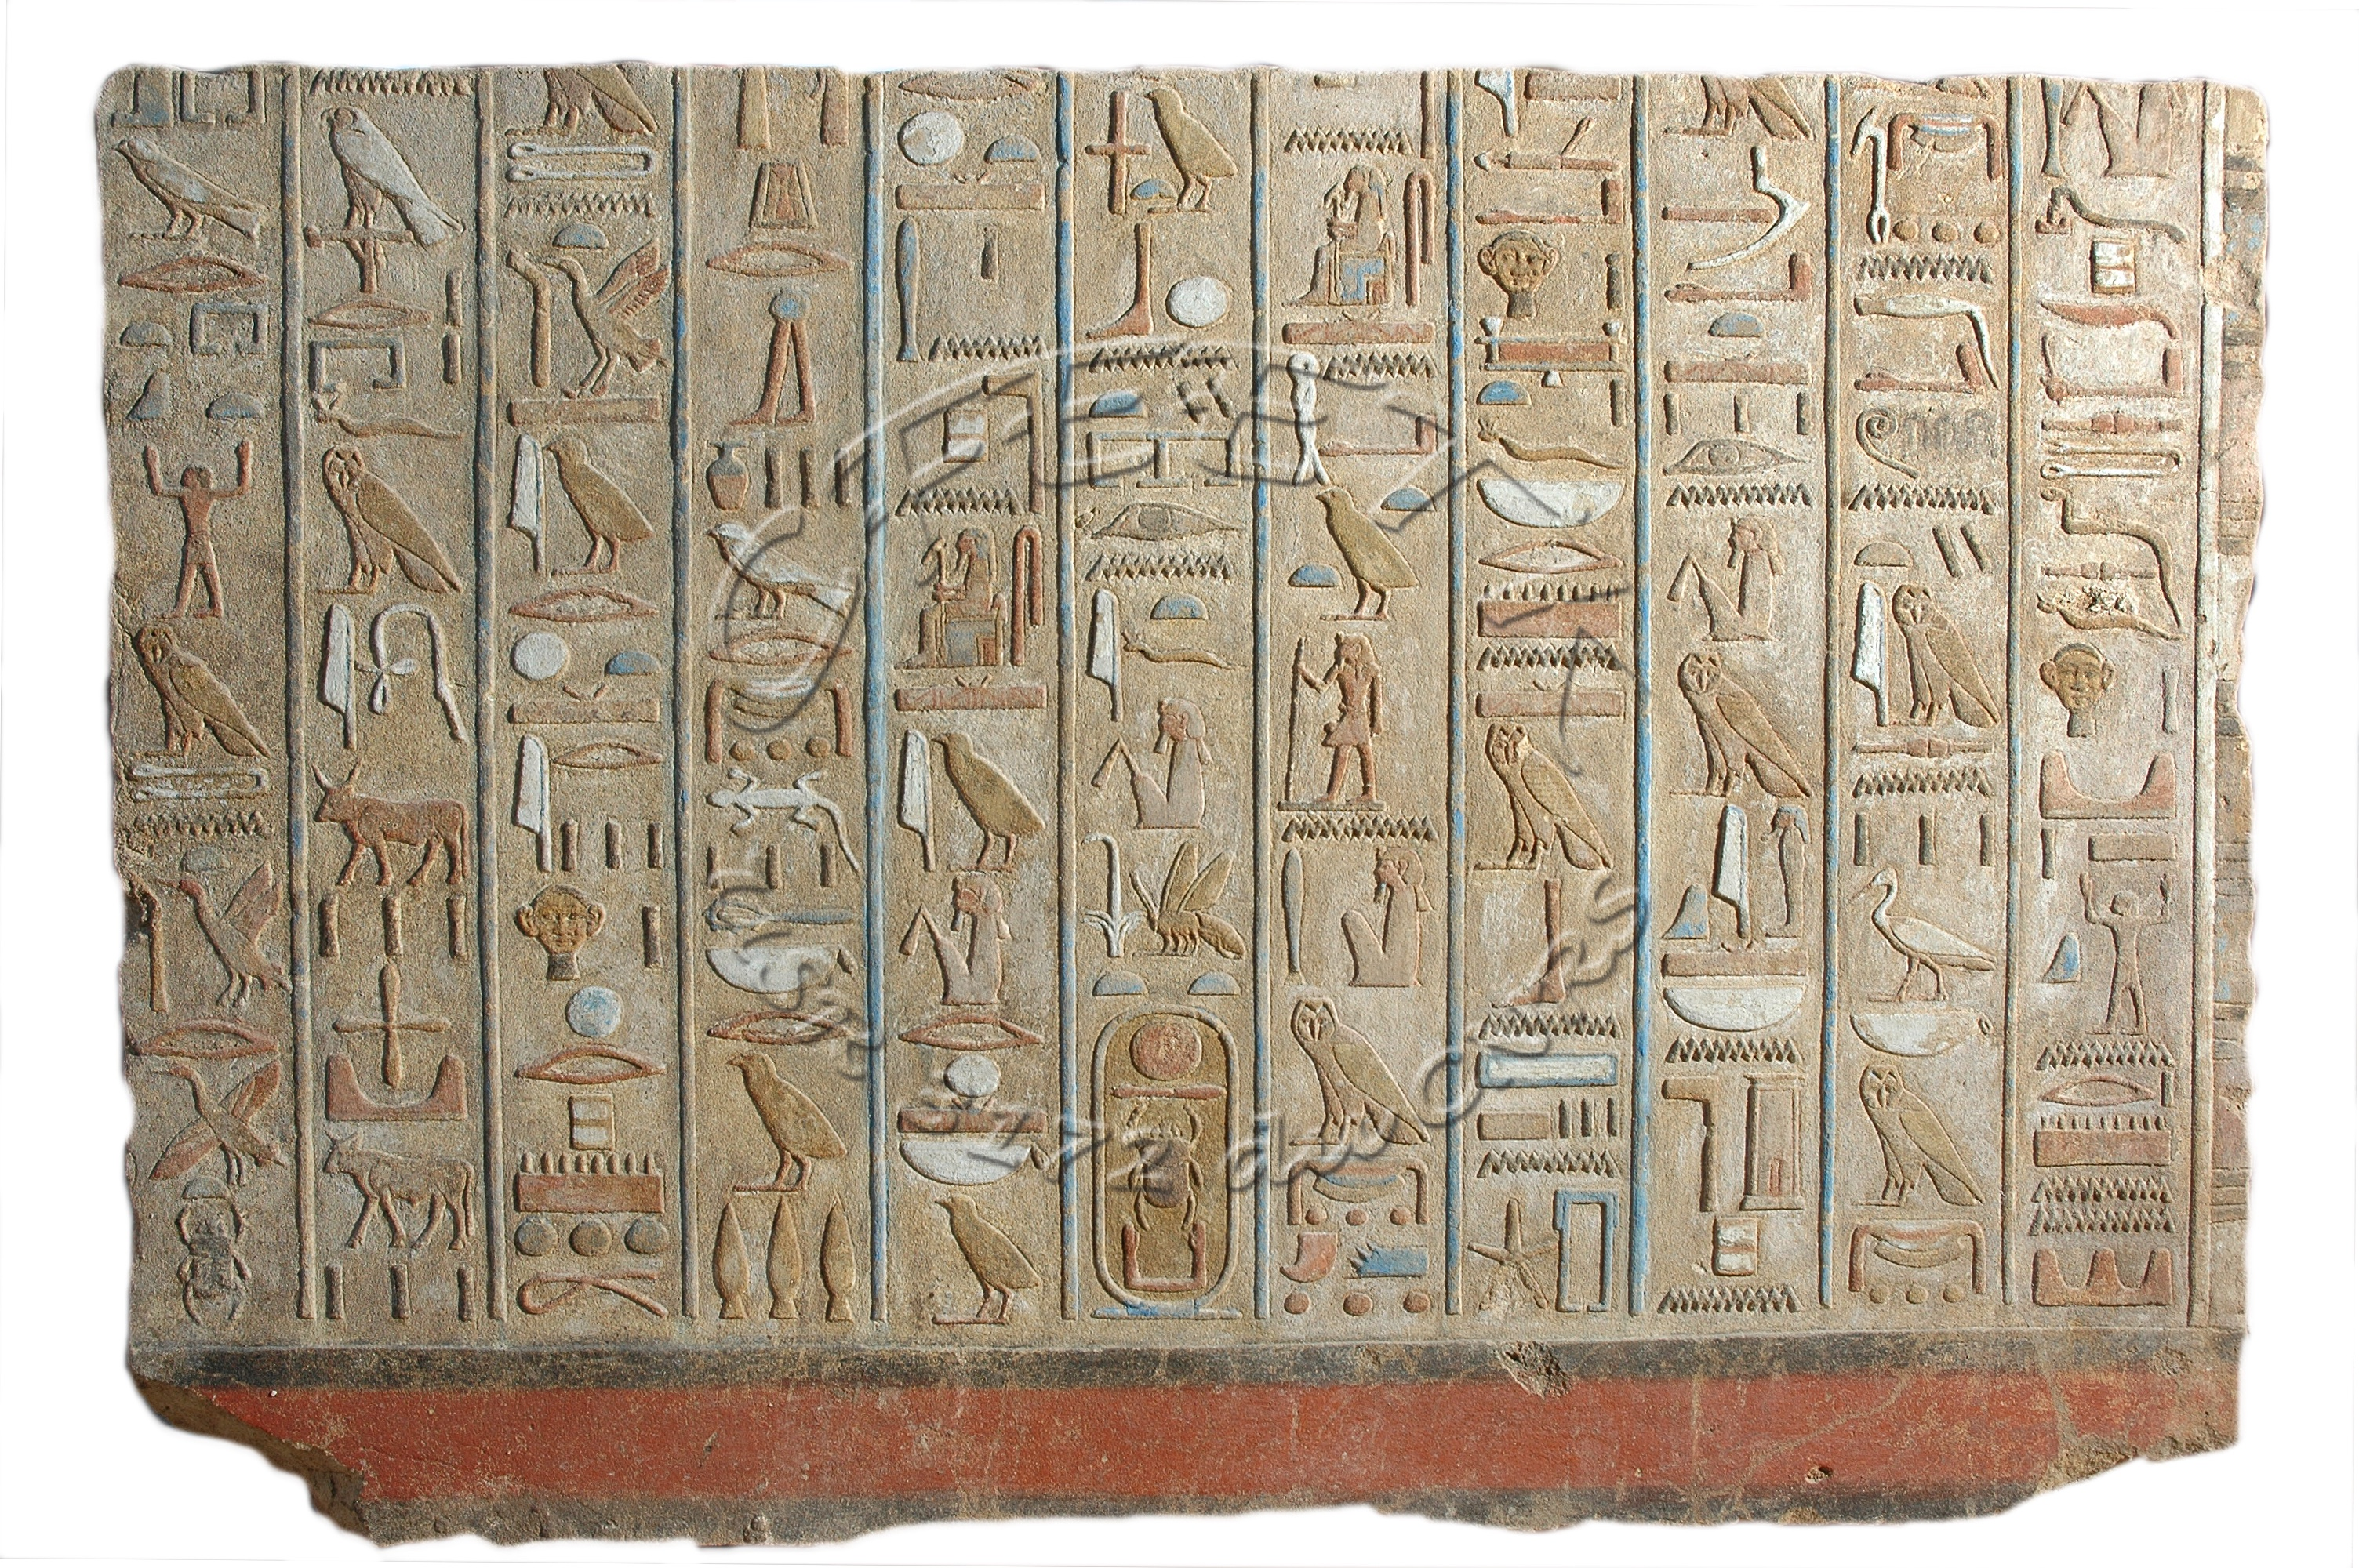D21: (128, 1012, 294, 1076), (893, 1004, 1059, 1064), (696, 231, 854, 292), (107, 247, 273, 305), (698, 1003, 875, 1055), (695, 621, 854, 677), (511, 1043, 679, 1096), (502, 579, 663, 634), (1468, 532, 1633, 585), (301, 294, 436, 346), (2028, 1073, 2166, 1120), (549, 730, 663, 779)
D4: (1083, 488, 1246, 543), (1652, 434, 1813, 487)
G17: (1272, 992, 1444, 1165), (299, 445, 479, 609), (121, 611, 289, 779), (1468, 721, 1633, 882), (1659, 646, 1822, 805), (1843, 1061, 1991, 1223), (1886, 581, 2013, 739)
G43: (714, 1047, 856, 1200), (915, 1183, 1050, 1333), (927, 724, 1057, 880), (544, 425, 670, 583), (1304, 480, 1430, 626), (1130, 75, 1249, 220)
I10: (2028, 480, 2194, 637)
M17: (304, 593, 378, 761), (1701, 801, 1778, 957), (497, 432, 572, 585), (1836, 577, 1908, 735), (886, 724, 952, 886), (502, 728, 571, 877), (1076, 585, 1143, 726)
N35: (499, 180, 663, 231), (1083, 541, 1242, 592), (1654, 1024, 1809, 1074), (1657, 1279, 1808, 1330), (1841, 474, 1997, 523), (301, 63, 479, 105), (2025, 1169, 2184, 1214), (1274, 116, 1421, 165), (2028, 1202, 2182, 1248), (1272, 812, 1447, 851), (1848, 763, 2002, 807), (927, 318, 1055, 371), (2032, 1034, 2180, 1078), (1073, 338, 1244, 374), (1850, 250, 1993, 294), (886, 480, 1029, 523), (1474, 1008, 1631, 1047), (124, 805, 275, 845), (1655, 480, 1820, 514), (1474, 1146, 1624, 1183), (1474, 642, 1626, 677), (1319, 346, 1437, 385)
V30: (698, 935, 863, 1001), (1470, 471, 1631, 530), (1664, 978, 1817, 1038), (893, 1129, 1032, 1192), (1846, 1003, 1988, 1059)
